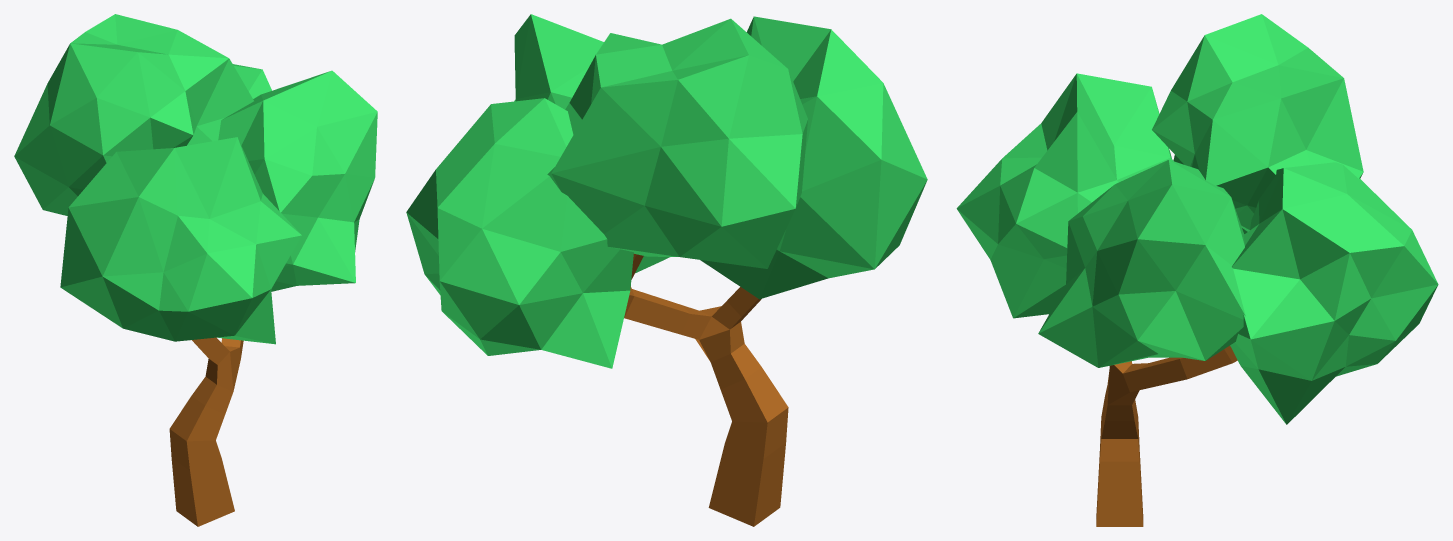
File: 広葉樹.fbx
3 renders of one model, left to right at view 1: azimuth 30°, elevation 25°; view 2: azimuth 150°, elevation 25°; view 3: azimuth 270°, elevation 25°, orthographic. The views are drawn at different scales.
Parts seen in each view (by area): view 1: ICO球.002, 平面; view 2: ICO球.002, 平面; view 3: ICO球.002, 平面.
Part boxes in pixels (box(x1,y1,x2,y2)): ICO球.002: box(14, 14, 377, 344); 平面: box(169, 337, 243, 526); ICO球.002: box(406, 14, 927, 368); 平面: box(624, 254, 788, 526); ICO球.002: box(956, 14, 1438, 424); 平面: box(1096, 345, 1237, 526).
Bounding box in the file's own units: 883 × 1163 × 1071.
